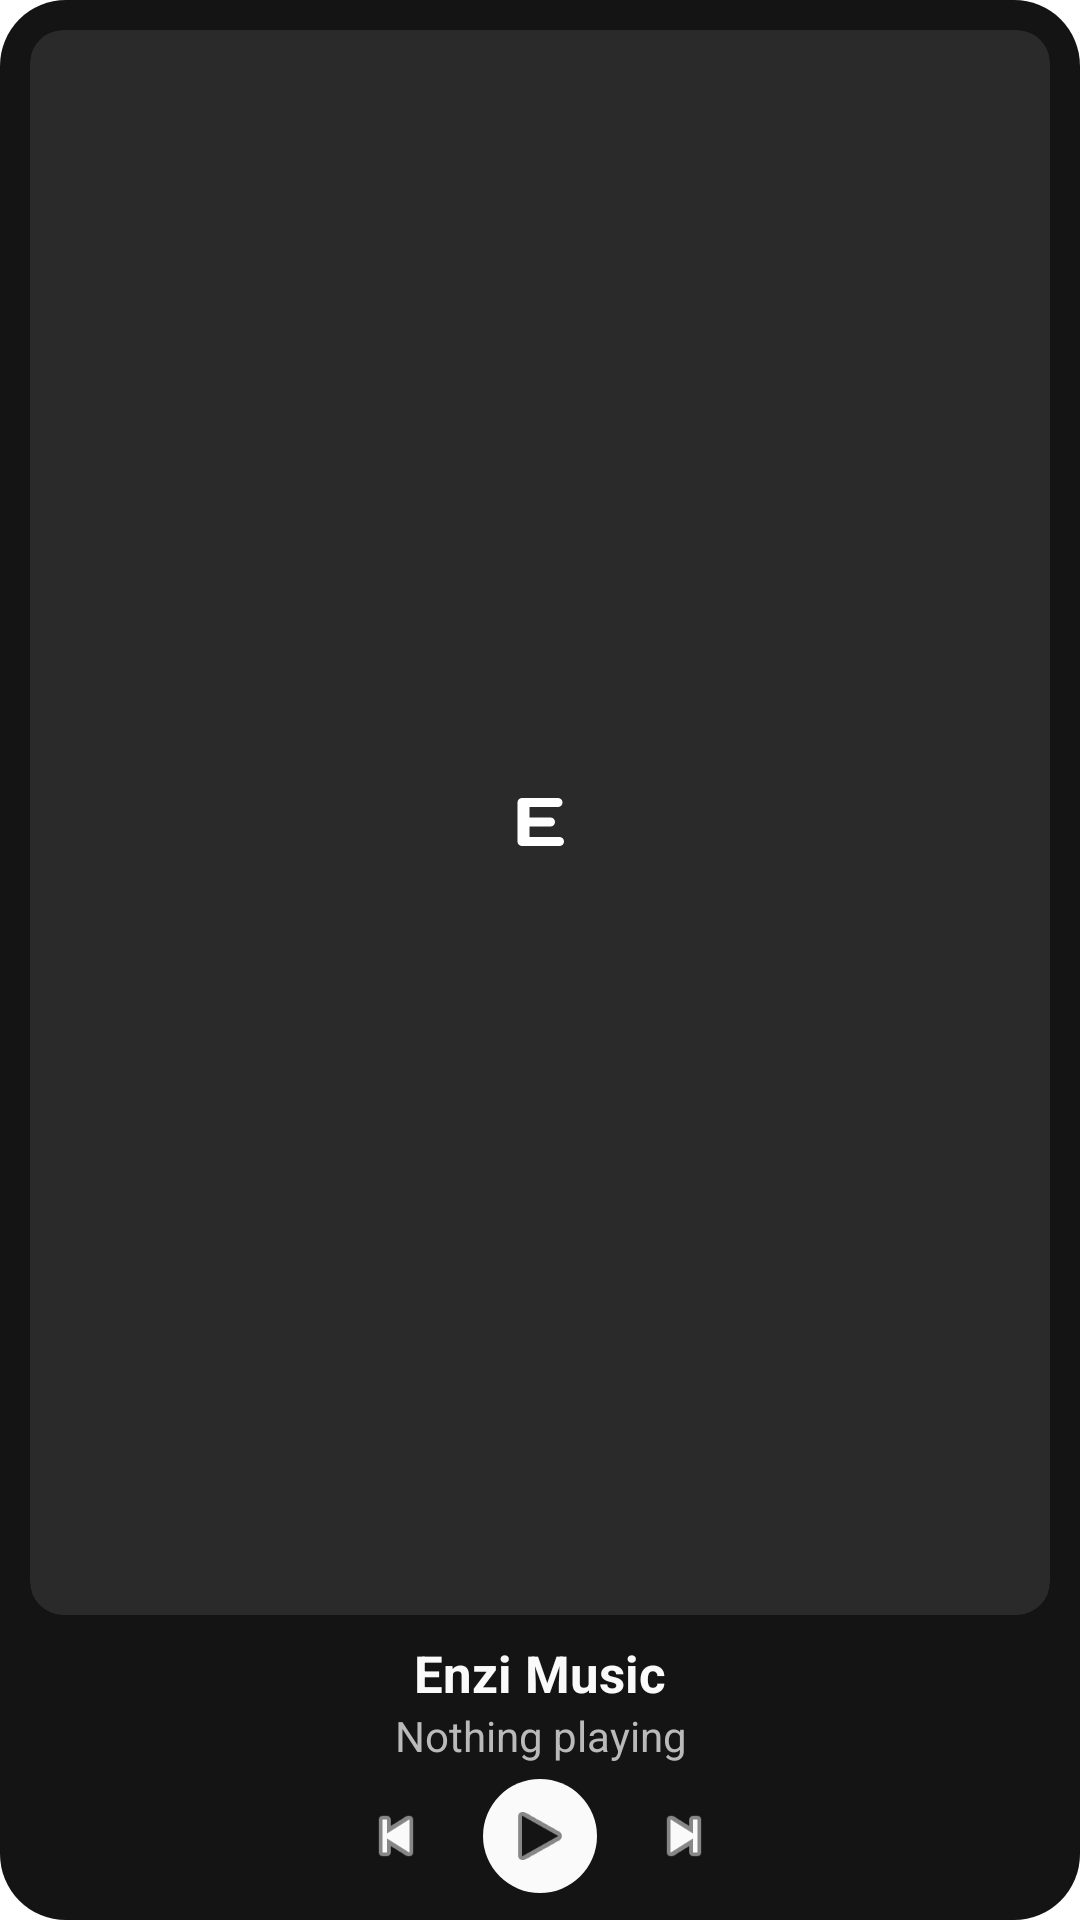

Named icons in this screenshot (1080×1920) and their bounding boxes, (x1, y1, x2, y2):
Next track: (667, 1816, 701, 1856)
Previous track: (379, 1816, 413, 1856)
